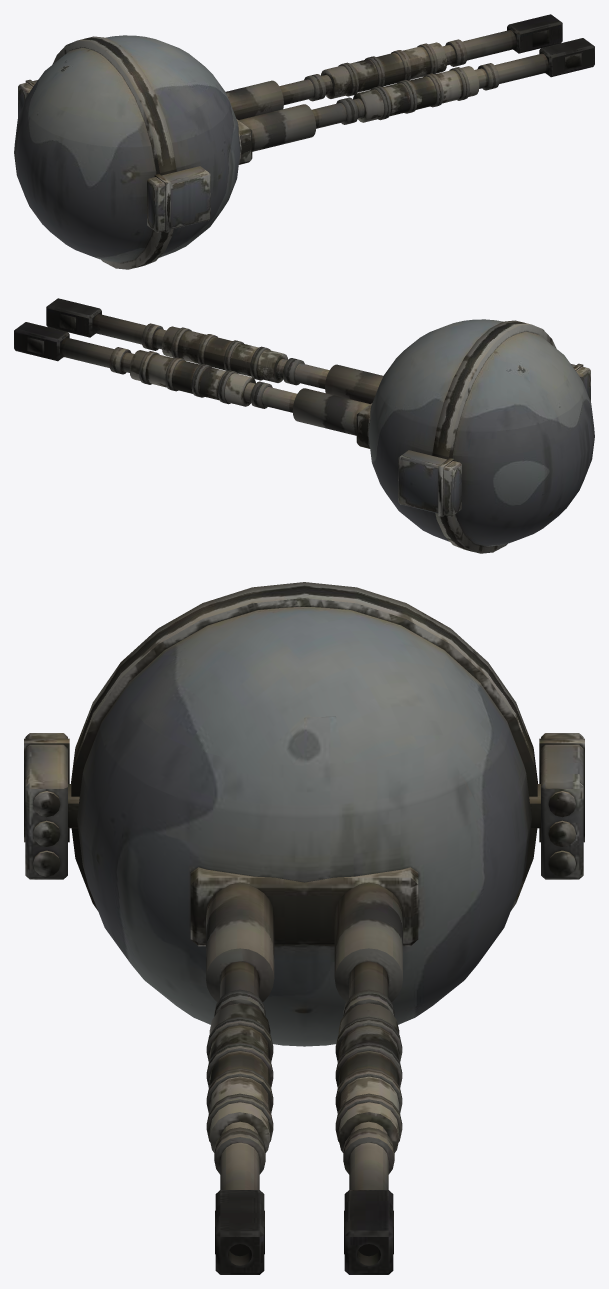
File: turret_kit_tail_ball_t3_sea_fog.glb
3 renders of one model, top to bottom at view 1: azimuth 30°, elevation 25°; view 2: azimuth 150°, elevation 25°; view 3: azimuth 270°, elevation 25°, orthographic. The views are drawn at different scales.
Parts seen in each view (by area): view 1: turret_tail_ball_t3, pods; view 2: turret_tail_ball_t3, pods; view 3: turret_tail_ball_t3, pods.
Boxes of the visible parts, bbox=[...] form: turret_tail_ball_t3: bbox=[14, 14, 594, 269]; pods: bbox=[18, 79, 210, 232]; turret_tail_ball_t3: bbox=[14, 298, 594, 553]; pods: bbox=[398, 363, 590, 516]; turret_tail_ball_t3: bbox=[71, 582, 537, 1274]; pods: bbox=[24, 733, 584, 879].
Size of the model in its own units: 1.66 by 0.62 by 0.7402.
Materials: 2 (2 with a texture image).
